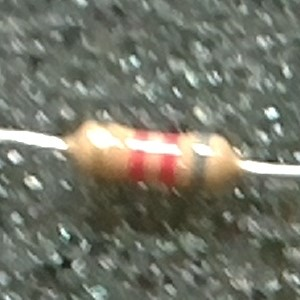gold_band: (87, 119, 112, 181)
grey_band: (188, 129, 215, 189)
red_band: (157, 129, 181, 189), (126, 128, 150, 183)
